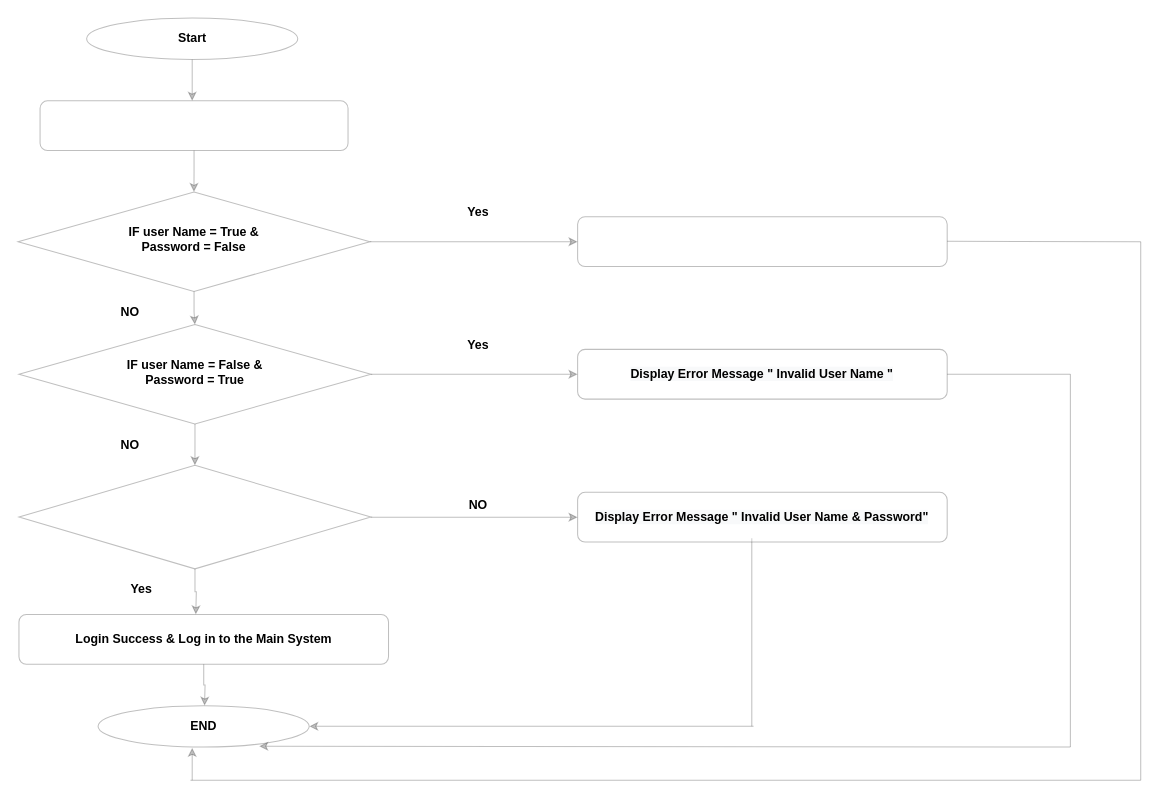
The diagram is 1160 pixels wide and 806 high, and some of its shapes have lost their labels. Here are the shapes that lost their labels. From the top down, the centre of each, then its label:
point 193,125: ENTER User Name & Password
point 762,241: Display Error Message " Invalid Password "
point 194,516: IF user Name & Password = True
